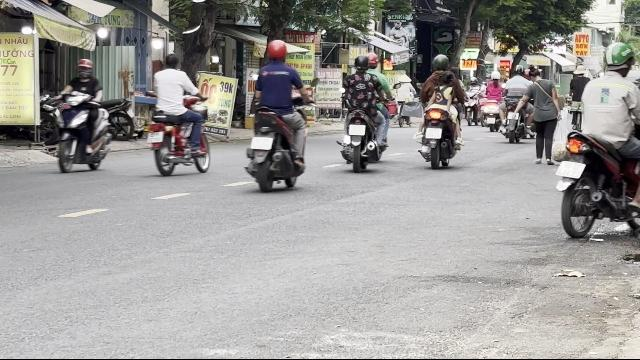helmet: (601, 41, 635, 76), (264, 40, 288, 62), (75, 58, 93, 78), (431, 53, 449, 71), (352, 54, 368, 72), (365, 52, 379, 70)
licenseplate: (556, 161, 586, 179), (251, 136, 273, 150), (348, 124, 366, 136), (426, 128, 442, 138), (147, 132, 163, 142)
motorcyclist: (553, 38, 639, 246), (244, 38, 310, 190), (144, 52, 212, 178), (49, 57, 113, 172), (337, 51, 391, 170), (416, 53, 466, 168)
nohelmet: (163, 52, 181, 70)
